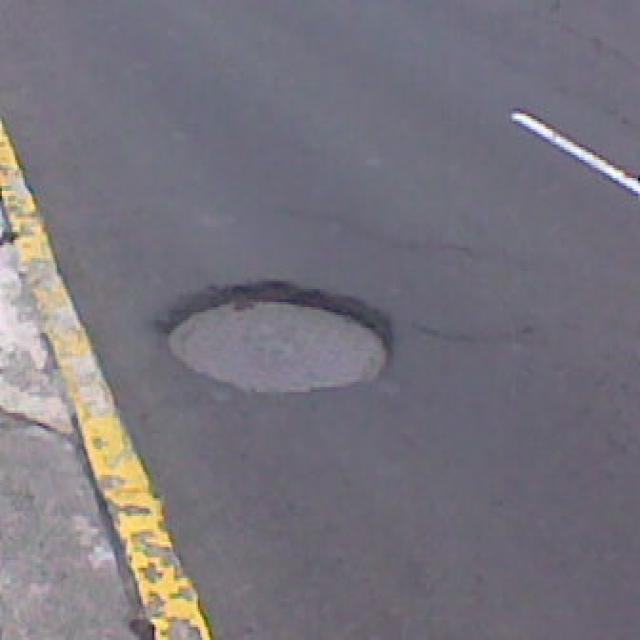Pothole: (143, 253, 442, 477)
